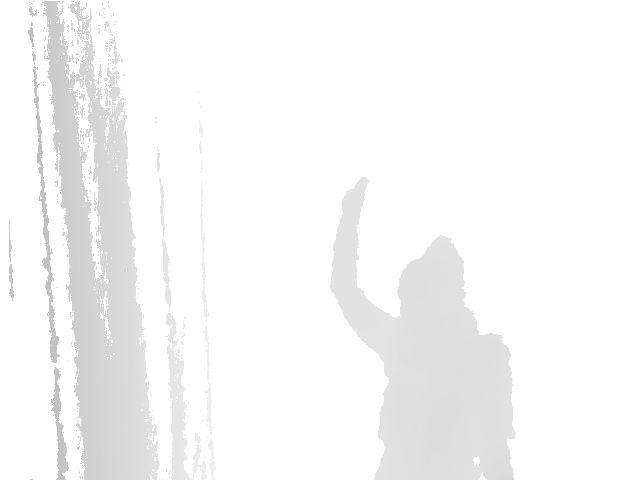hand: (340, 177, 370, 215)
head: (395, 234, 472, 324)
person: (327, 176, 519, 479)
